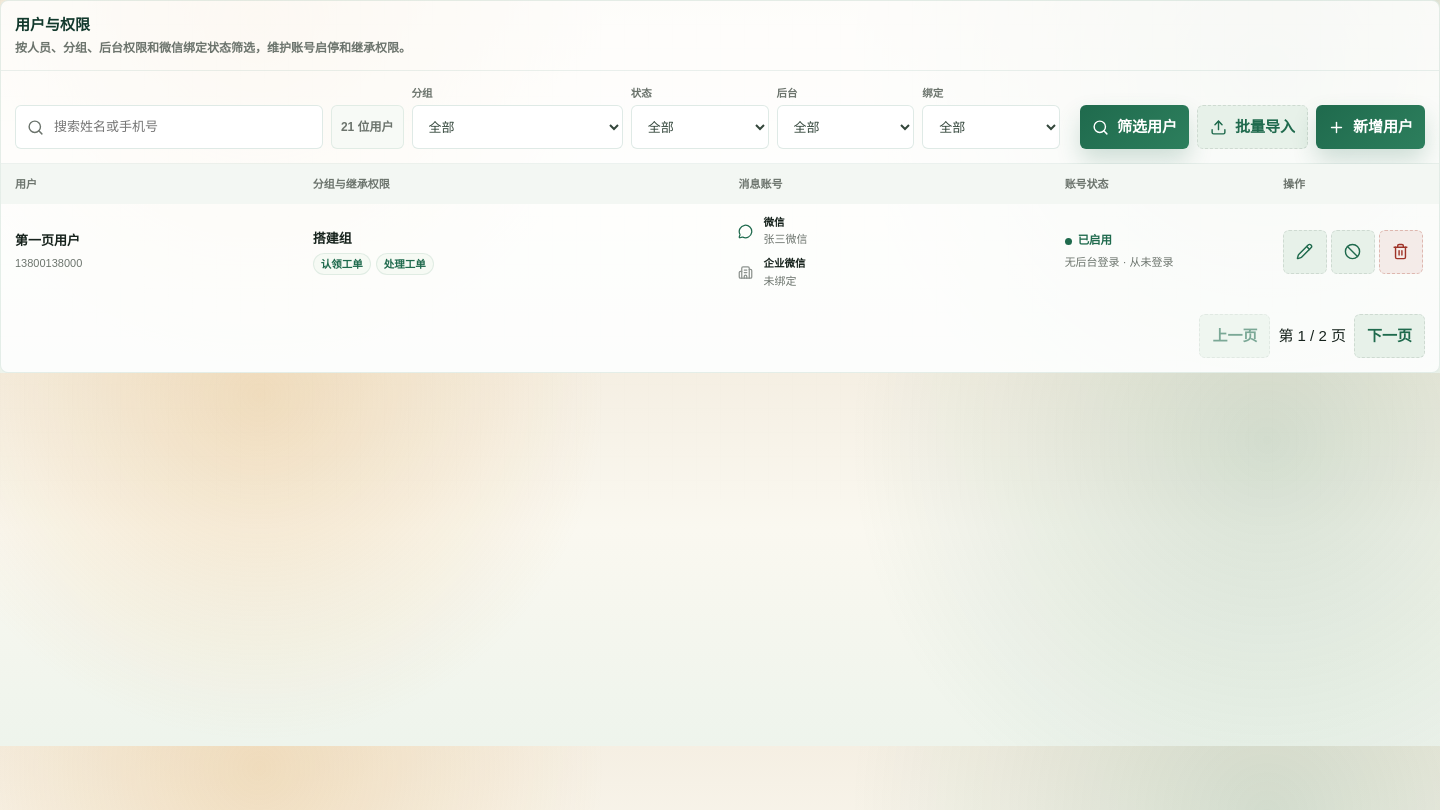
Test case: AdminUsersPanel pagination › loads the next server page through the user table
expect the text "第一页用户" is shown: met, box [15,231,80,251]
Click the button "下一页" at (1390, 336), box [1354,314,1425,358]
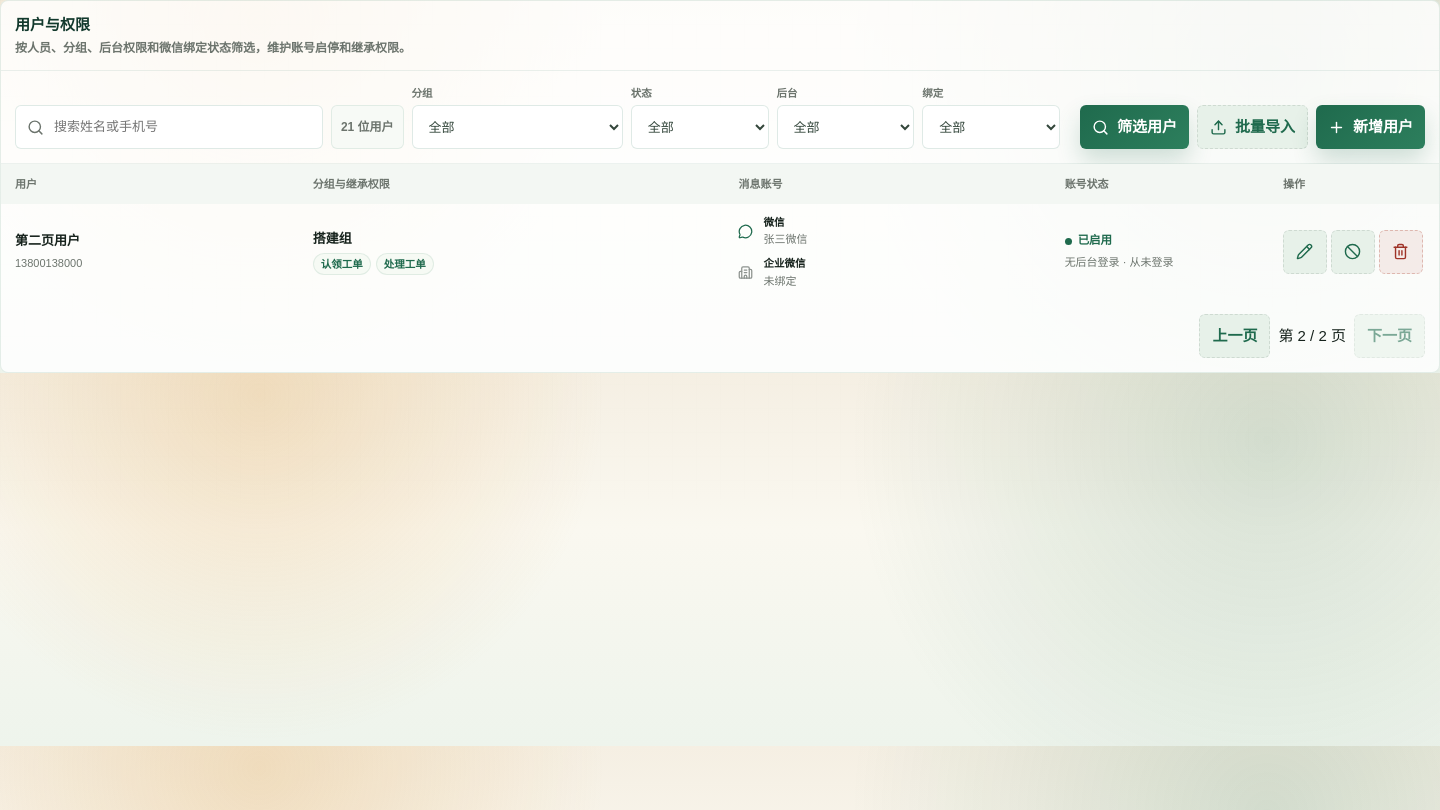
expect the text "第二页用户" is shown: met, box [15,231,80,251]
